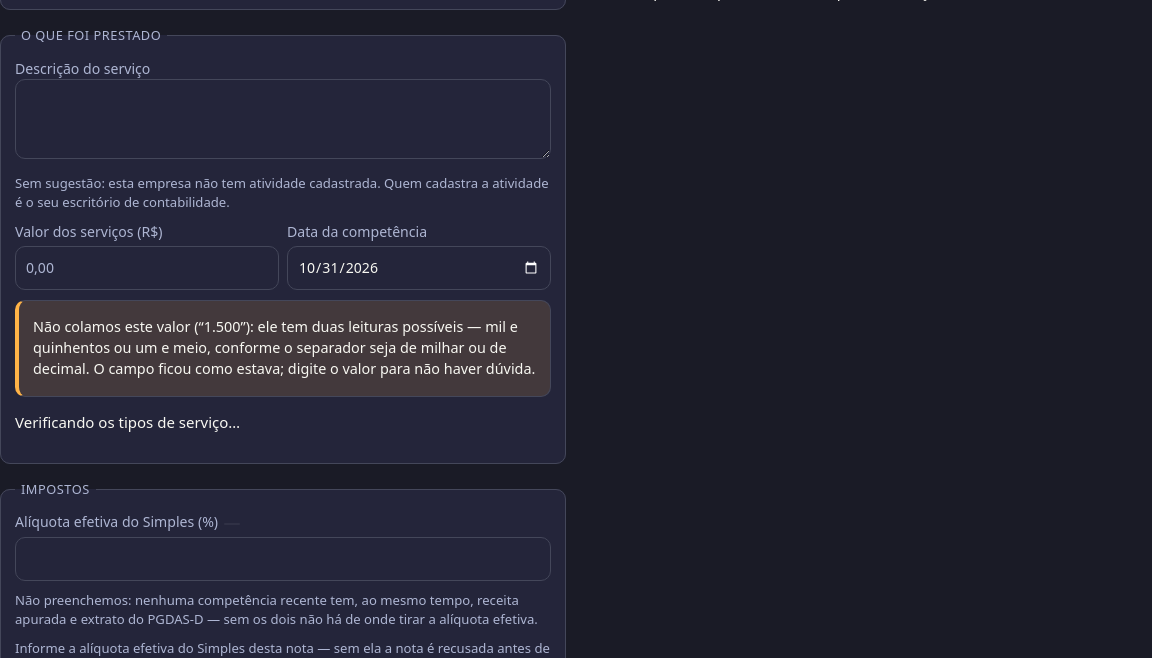
o VALOR: campo de moeda, uma leitura só › digitar depois da recusa limpa a recusa
(page scrolled)
expect the 1st message shows "duas leituras": met, box [33,317,535,378]
Type "30000" into the field with id "emitir-valor". click: (147, 268)
box: [15,246,279,290]
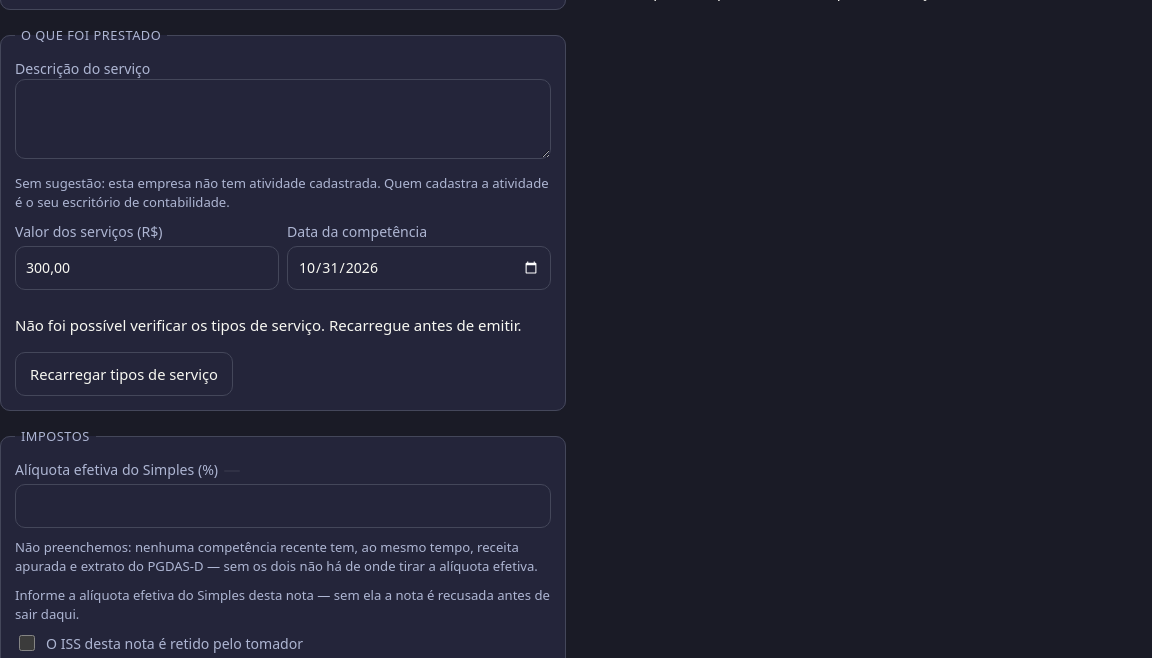
expect the text "duas leituras" is gone: met
